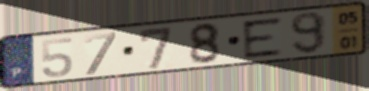5: (40, 35, 75, 79)
7: (138, 25, 176, 70), (82, 31, 118, 76)
8: (187, 21, 222, 65)
9: (288, 10, 329, 56)
E: (239, 15, 285, 61)
